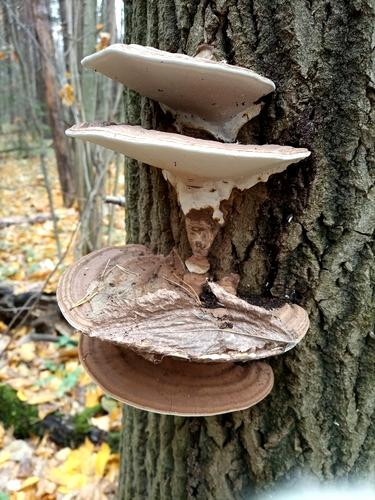Ganoderma - Fruit Body: (46, 223, 324, 428), (74, 16, 290, 130), (82, 131, 312, 210)
